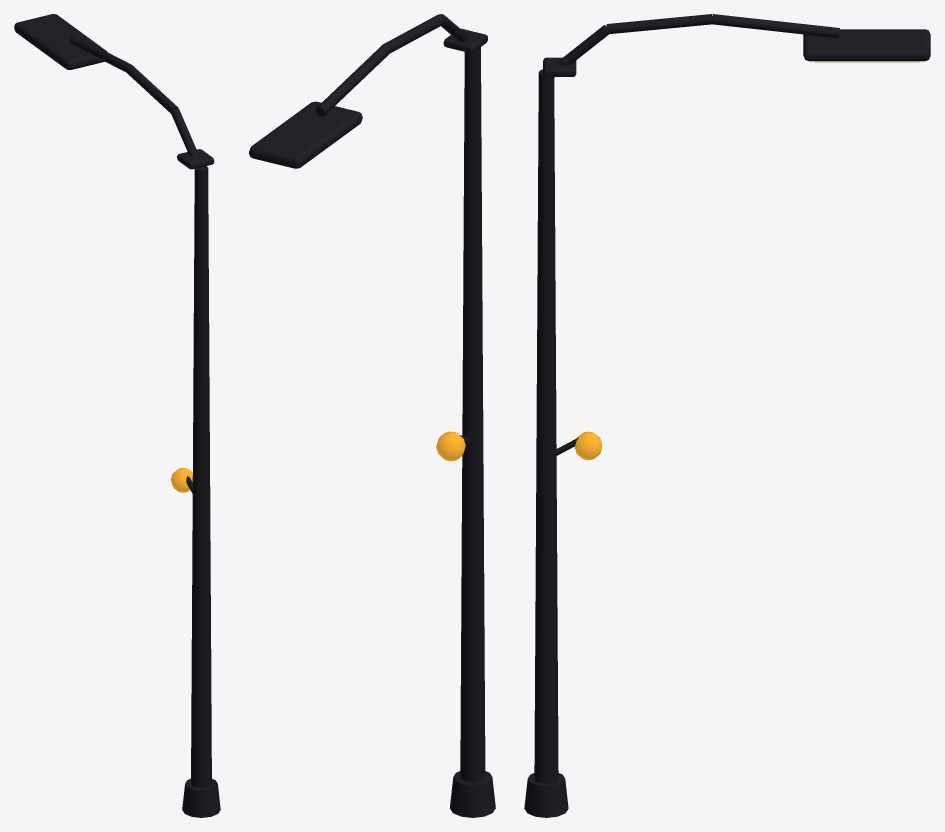
The model's file is street_light.glb.
3 renders of one model, left to right at view 1: azimuth 30°, elevation 25°; view 2: azimuth 150°, elevation 25°; view 3: azimuth 270°, elevation 25°, orthographic. The views are drawn at different scales.
Parts seen in each view (by area): view 1: StreetLight; view 2: StreetLight; view 3: StreetLight.
Boxes of the visible parts, <box> form: StreetLight: <box>14,14,220,817</box>; StreetLight: <box>249,14,495,817</box>; StreetLight: <box>524,14,930,817</box>.
Size of the model in its own units: 0.52 by 7.93 by 3.67.
